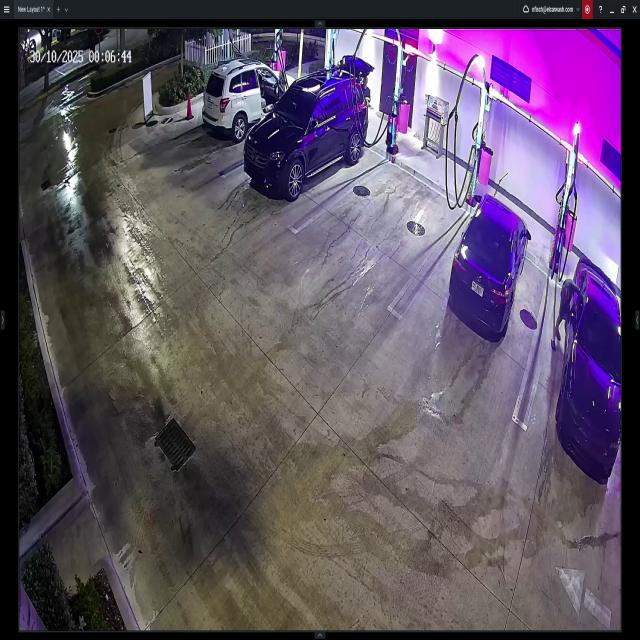Car: (241, 61, 369, 199), (552, 256, 620, 472), (448, 190, 530, 338), (203, 59, 296, 137)
